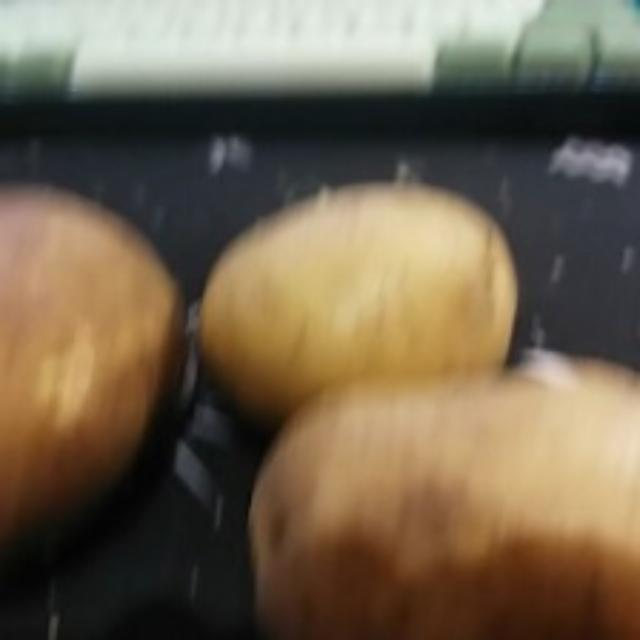Damaged potato: (242, 337, 638, 636), (0, 171, 192, 573)
Potato: (193, 172, 522, 428)
